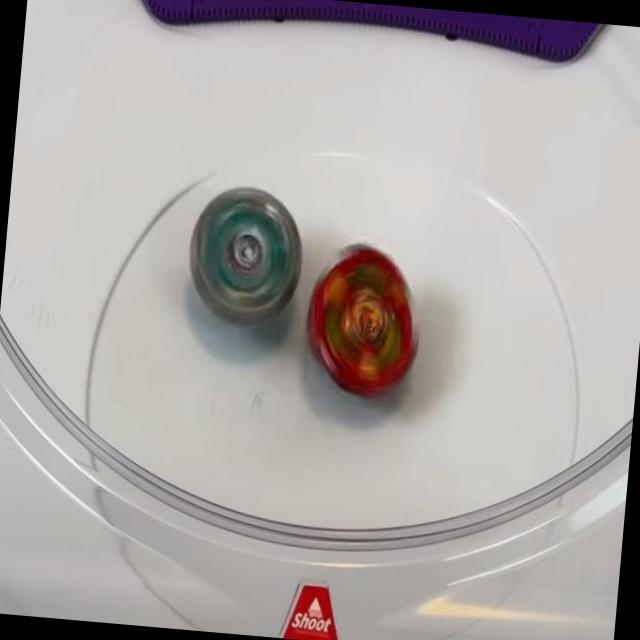Beyblade: (302, 240, 426, 402), (184, 182, 308, 330)
